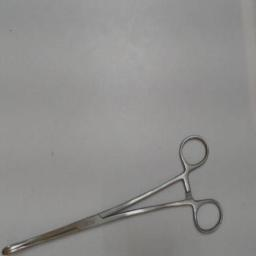Sponge Forceps: (0, 131, 228, 255)
